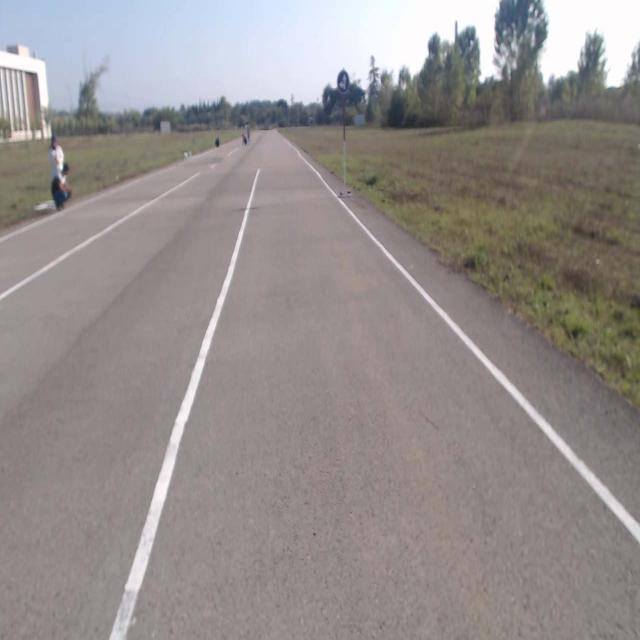ilerisol: (338, 71, 348, 94)
